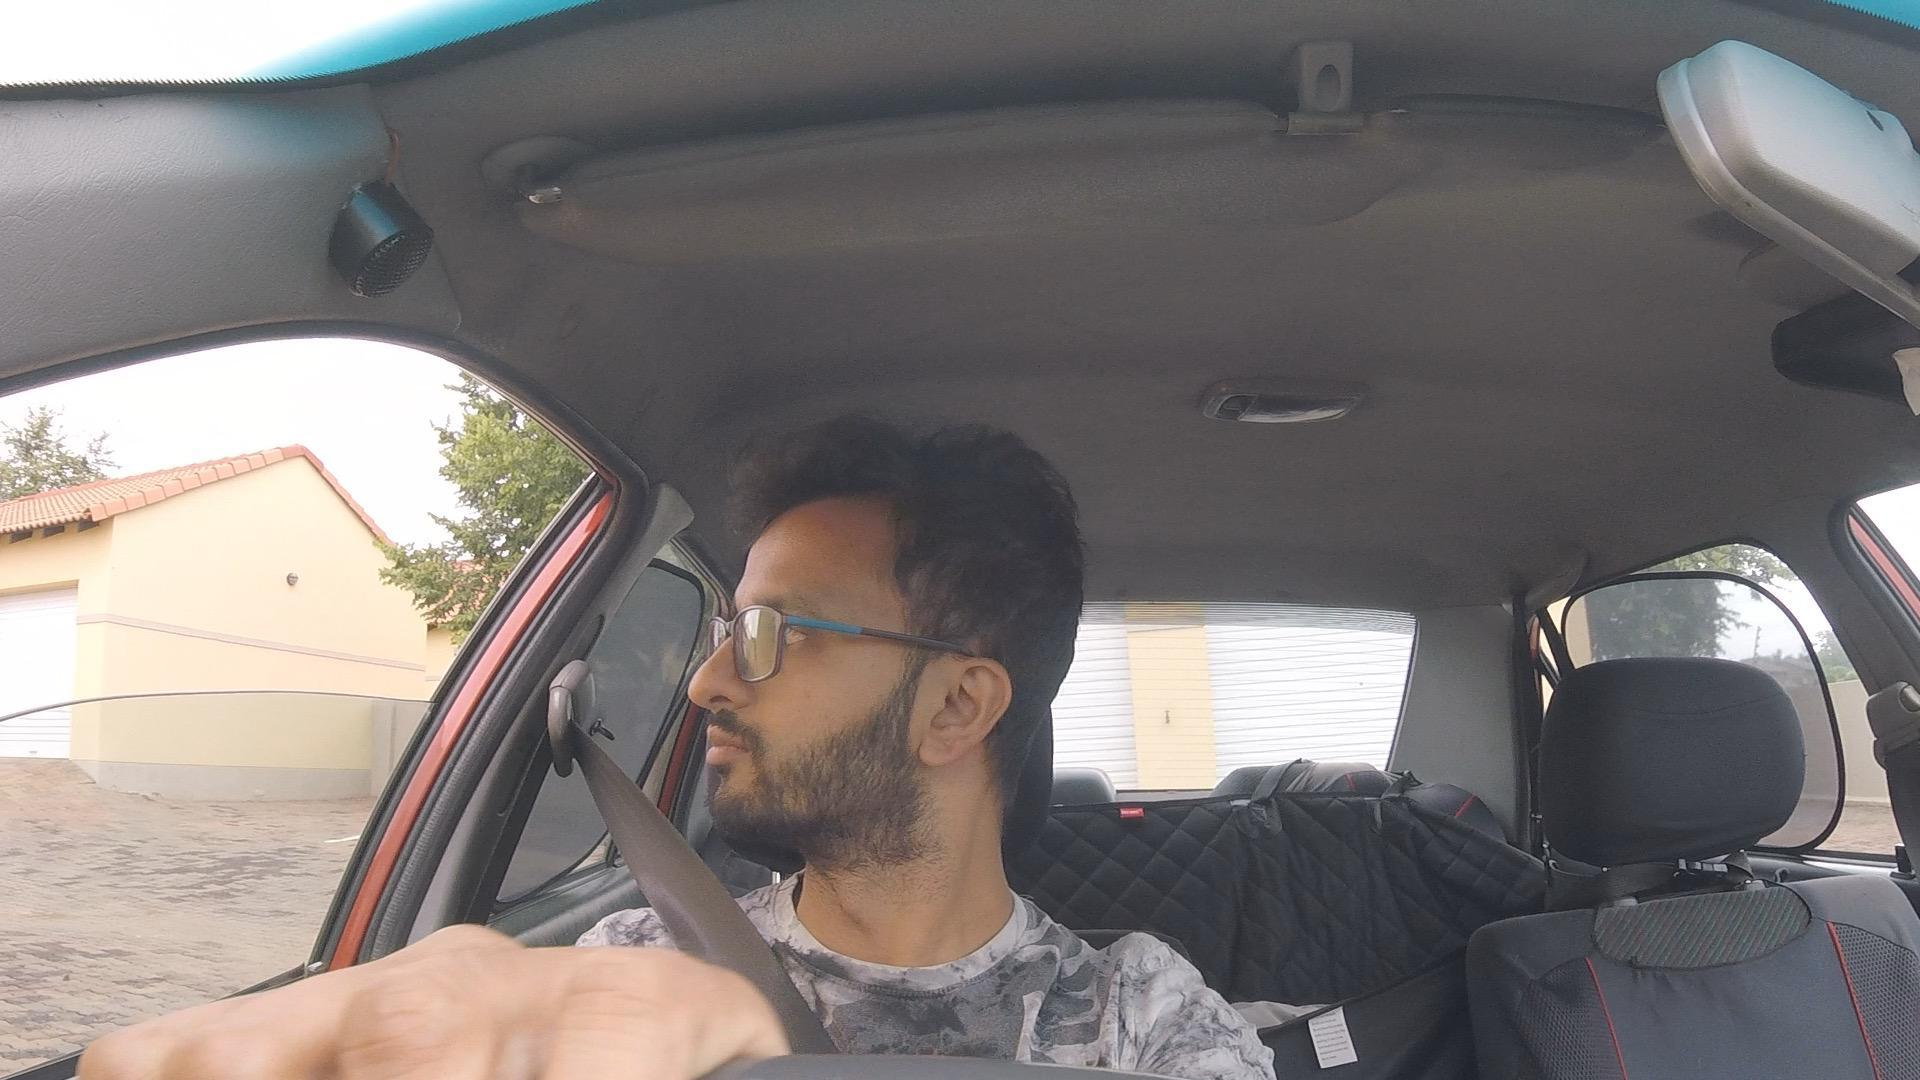Distracted: (589, 364, 1244, 1080)
SafeDriving: (688, 415, 1091, 851)
